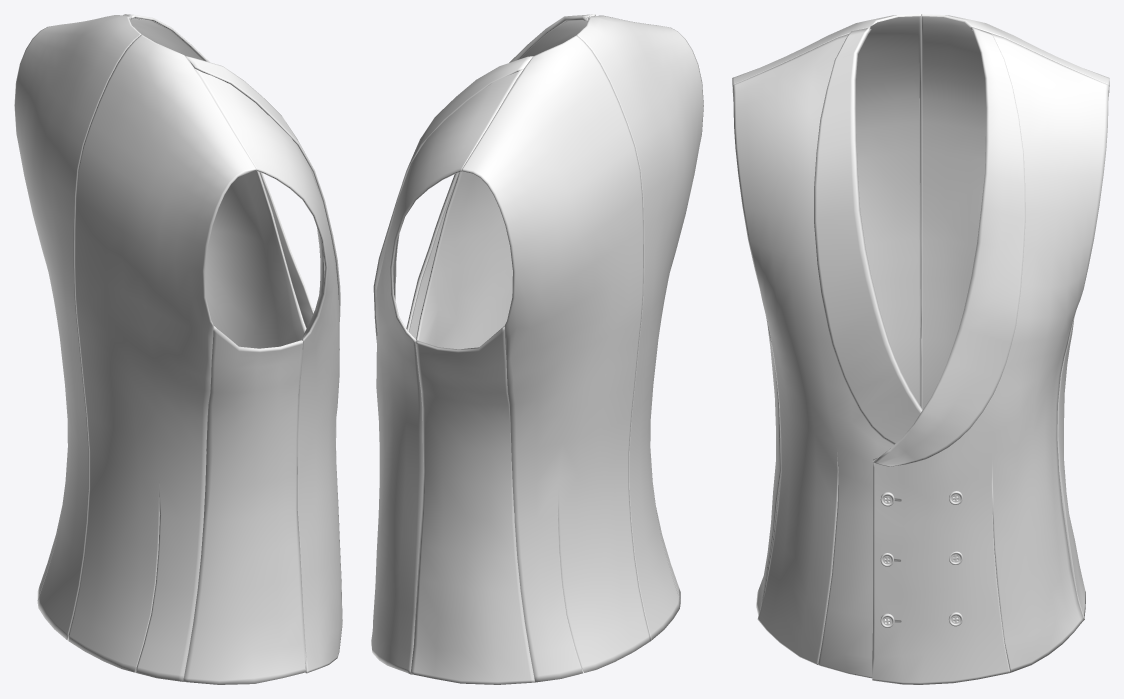
Rendered from double_breasted_6x3_buttons_shawl_lapel_straight_bottom.glb.
The picture shows the model from 3 angles, left to right: view 1: azimuth 30°, elevation 25°; view 2: azimuth 150°, elevation 25°; view 3: azimuth 270°, elevation 25°; orthographic projection. The views are drawn at different scales.
Visible parts, largest first — view 1: SM_Vest_Back_outside, SM_Vest_front_Sigle_6*3Button_ShawlLapel; view 2: SM_Vest_Back_outside, SM_Vest_front_Sigle_6*3Button_ShawlLapel; view 3: SM_Vest_front_Sigle_6*3Button_ShawlLapel, SM_Vest_Back_outside, SM_Button_6*3.
Part boxes in pixels (<box>): SM_Vest_Back_outside: <box>14,15,306,684</box>; SM_Vest_front_Sigle_6*3Button_ShawlLapel: <box>123,14,342,673</box>; SM_Vest_Back_outside: <box>410,15,703,684</box>; SM_Vest_front_Sigle_6*3Button_ShawlLapel: <box>371,14,595,674</box>; SM_Vest_front_Sigle_6*3Button_ShawlLapel: <box>733,27,1108,684</box>; SM_Vest_Back_outside: <box>732,14,1109,619</box>; SM_Button_6*3: <box>880,491,962,627</box>.
Size of the model in its own units: 1.56 by 3.65 by 2.12.
6 materials, 1 textured.
